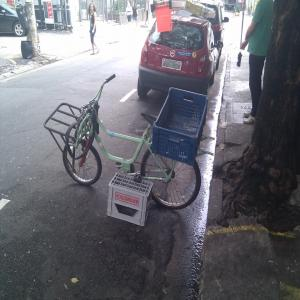Vehicle-registration-plate: (163, 60, 182, 72)
